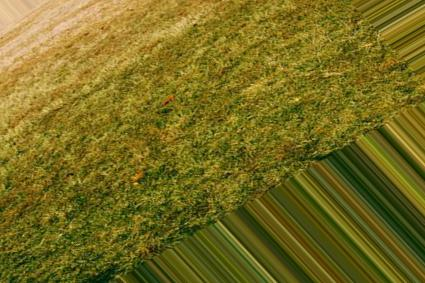patch: (252, 59, 342, 95), (64, 2, 136, 43), (13, 45, 51, 79), (60, 48, 98, 77), (22, 87, 54, 114), (34, 21, 58, 37)
